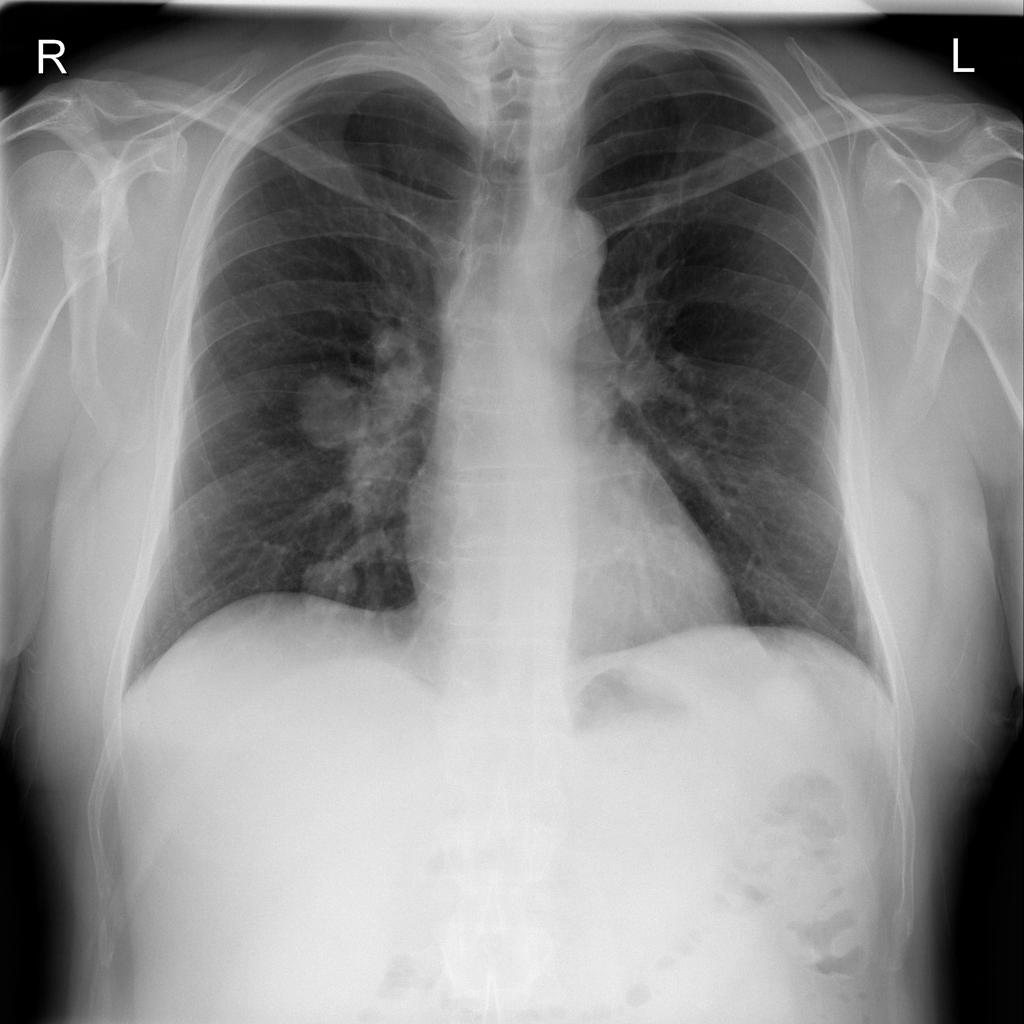nodule: (280, 352, 390, 462), (279, 535, 393, 635)
